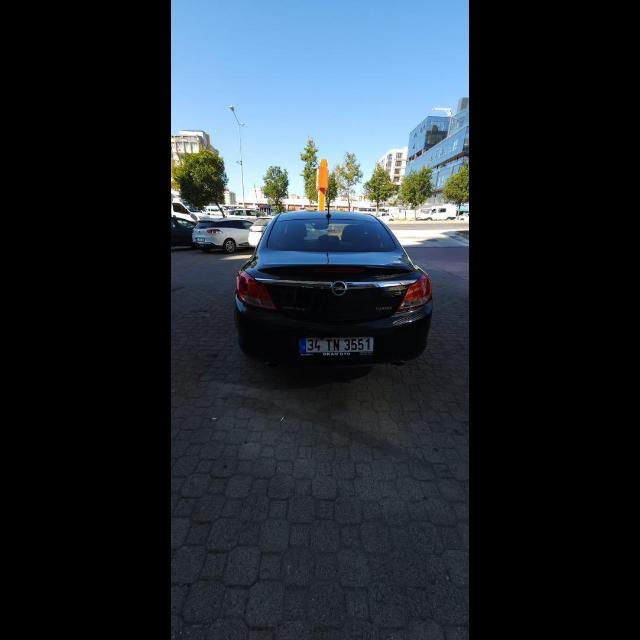Plaka: (300, 337, 374, 353)
